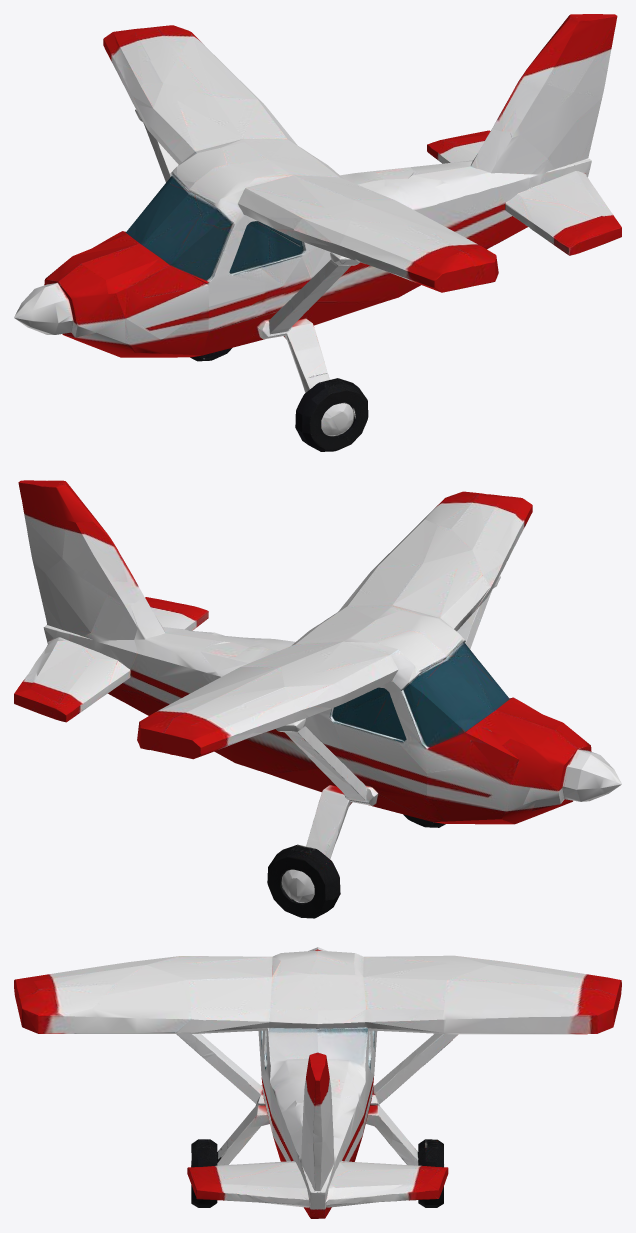
File: avion.glb
The picture shows the model from 3 angles, top to bottom: view 1: azimuth 30°, elevation 25°; view 2: azimuth 150°, elevation 25°; view 3: azimuth 270°, elevation 25°; orthographic projection. The views are drawn at different scales.
Size of the model in its own units: 1.9 by 0.9419 by 1.82.
Materials: 1 (1 with a texture image).
